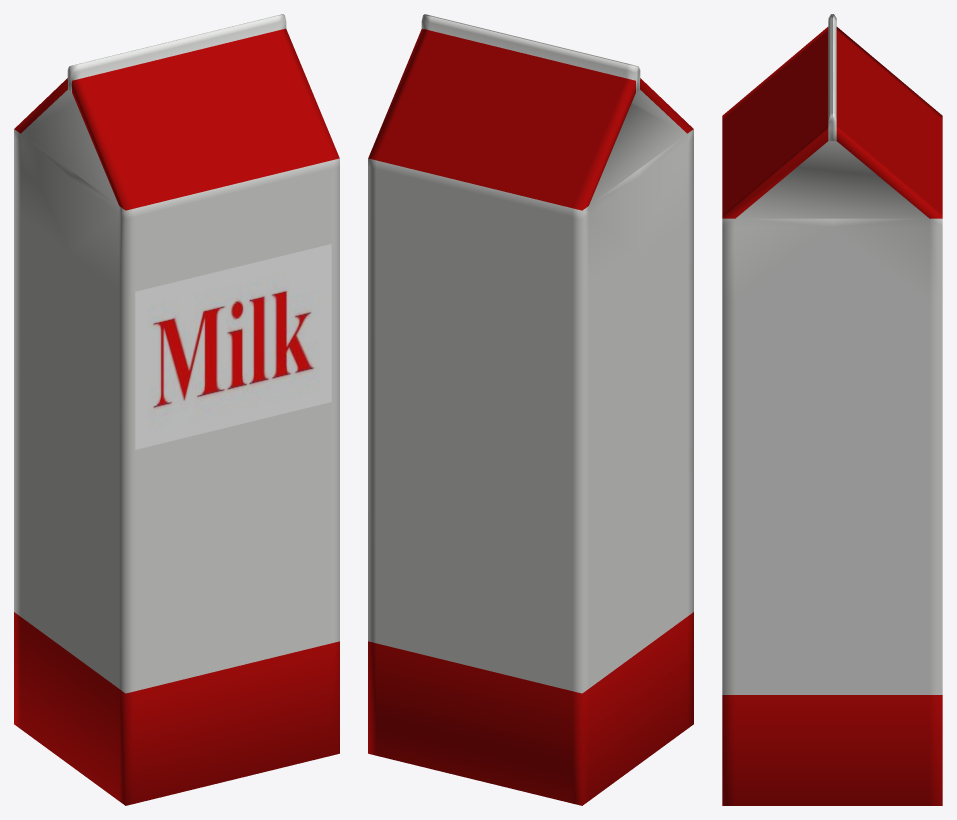
File: milk.fbx
3 views of the same model, side by side, from view 1: azimuth 30°, elevation 25°; view 2: azimuth 150°, elevation 25°; view 3: azimuth 270°, elevation 25° (orthographic).
Parts seen in each view (by area): view 1: Milk; view 2: Milk; view 3: Milk.
Part boxes in pixels (box(x1,y1,x2,y2)): Milk: box(14, 14, 339, 805); Milk: box(368, 14, 693, 805); Milk: box(722, 14, 942, 805).
Size of the model in its own units: 36.73 by 114 by 33.13.
3 materials, 1 textured.
